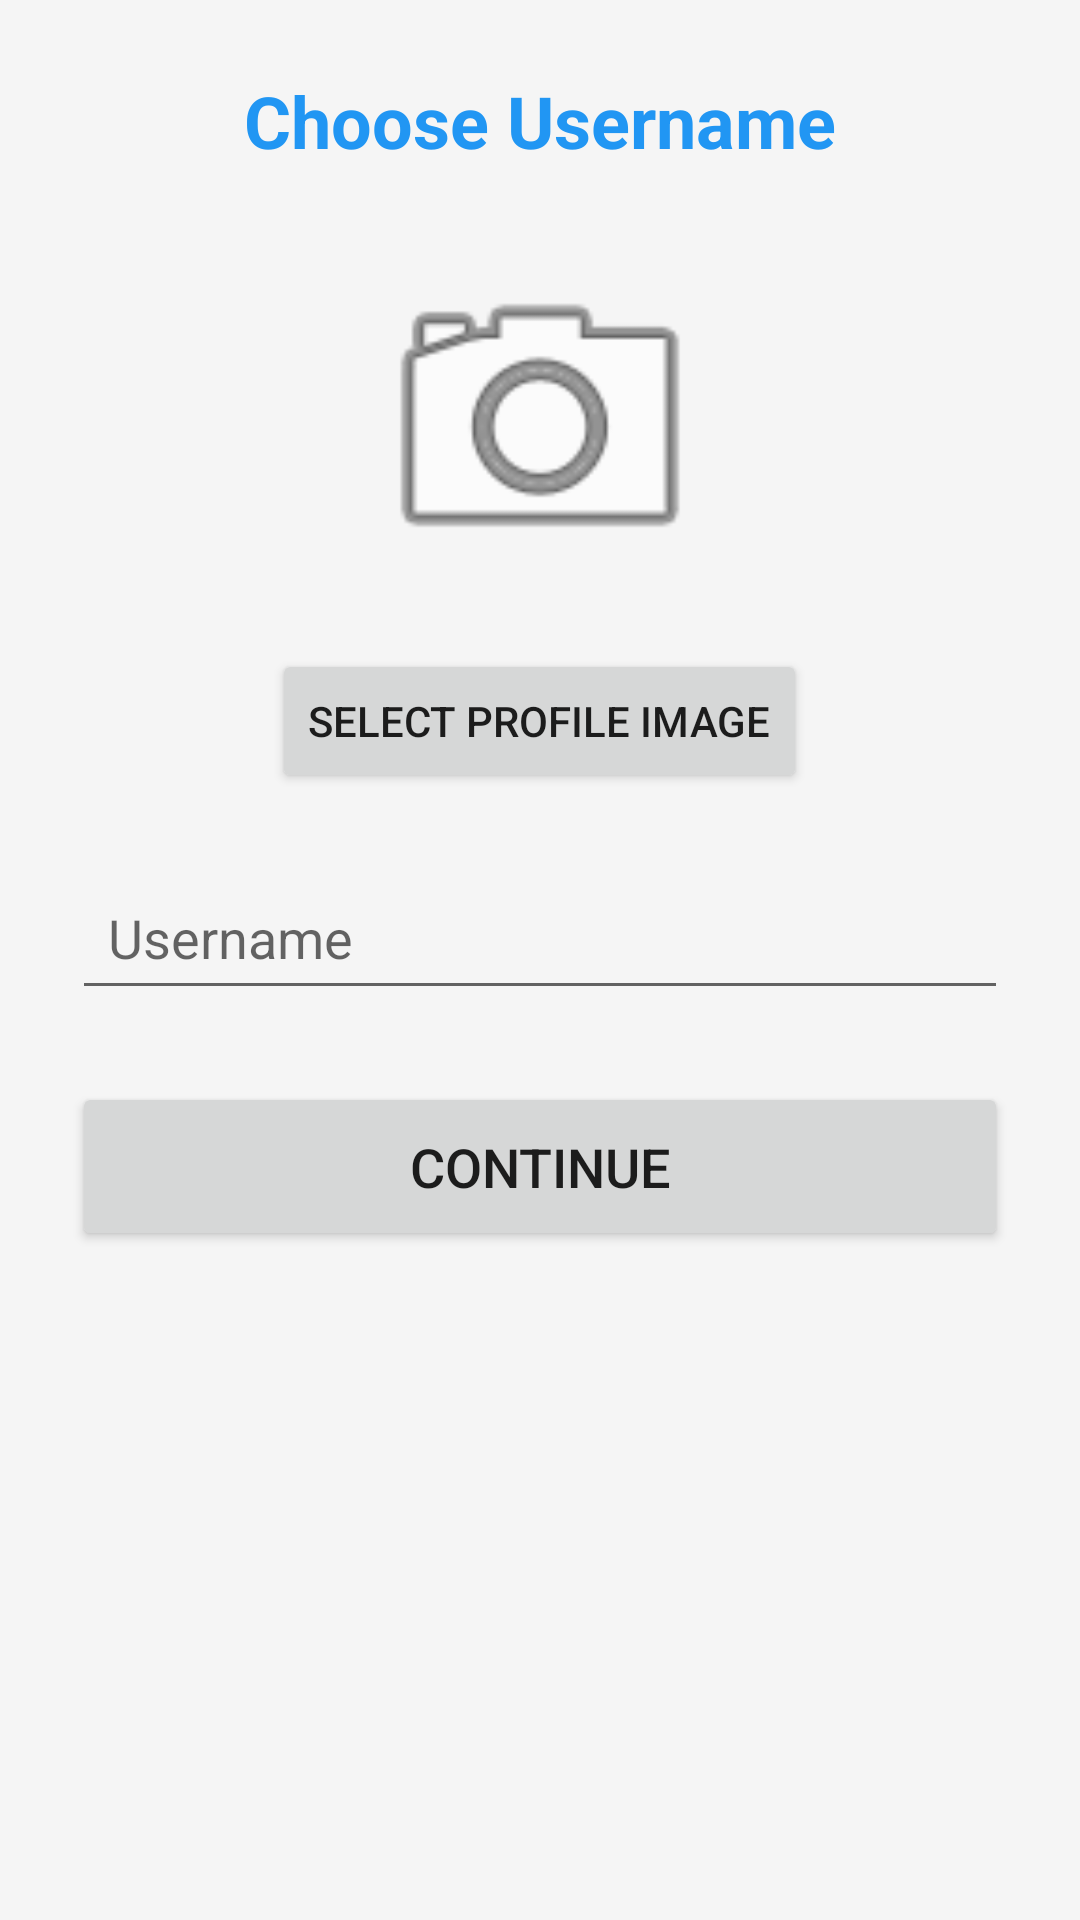

Locate icon controls on the screen. Image size 1080w x 1920h, boxes as (x1, y1, x2, y2).
camera: (401, 304, 679, 526)
